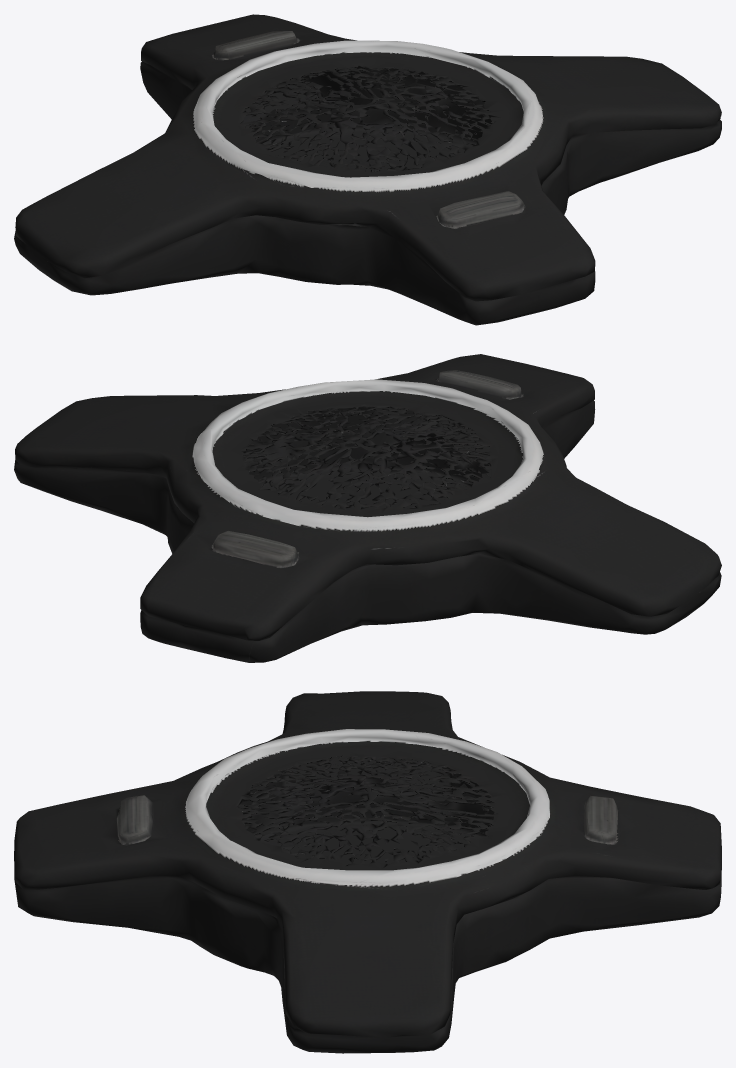
The model's file is facultyoffice_ConferencePhone.glb.
3 renders of one model, top to bottom at view 1: azimuth 30°, elevation 25°; view 2: azimuth 150°, elevation 25°; view 3: azimuth 270°, elevation 25°, orthographic. The views are drawn at different scales.
Parts seen in each view (by area): view 1: world; view 2: world; view 3: world.
Boxes of the visible parts, bbox=[...] form: world: bbox=[14, 14, 721, 325]; world: bbox=[14, 354, 721, 662]; world: bbox=[14, 691, 721, 1053].
Bounding box in the file's own units: 0.998 × 0.1477 × 0.8967.
Materials: 1 (1 with a texture image).
